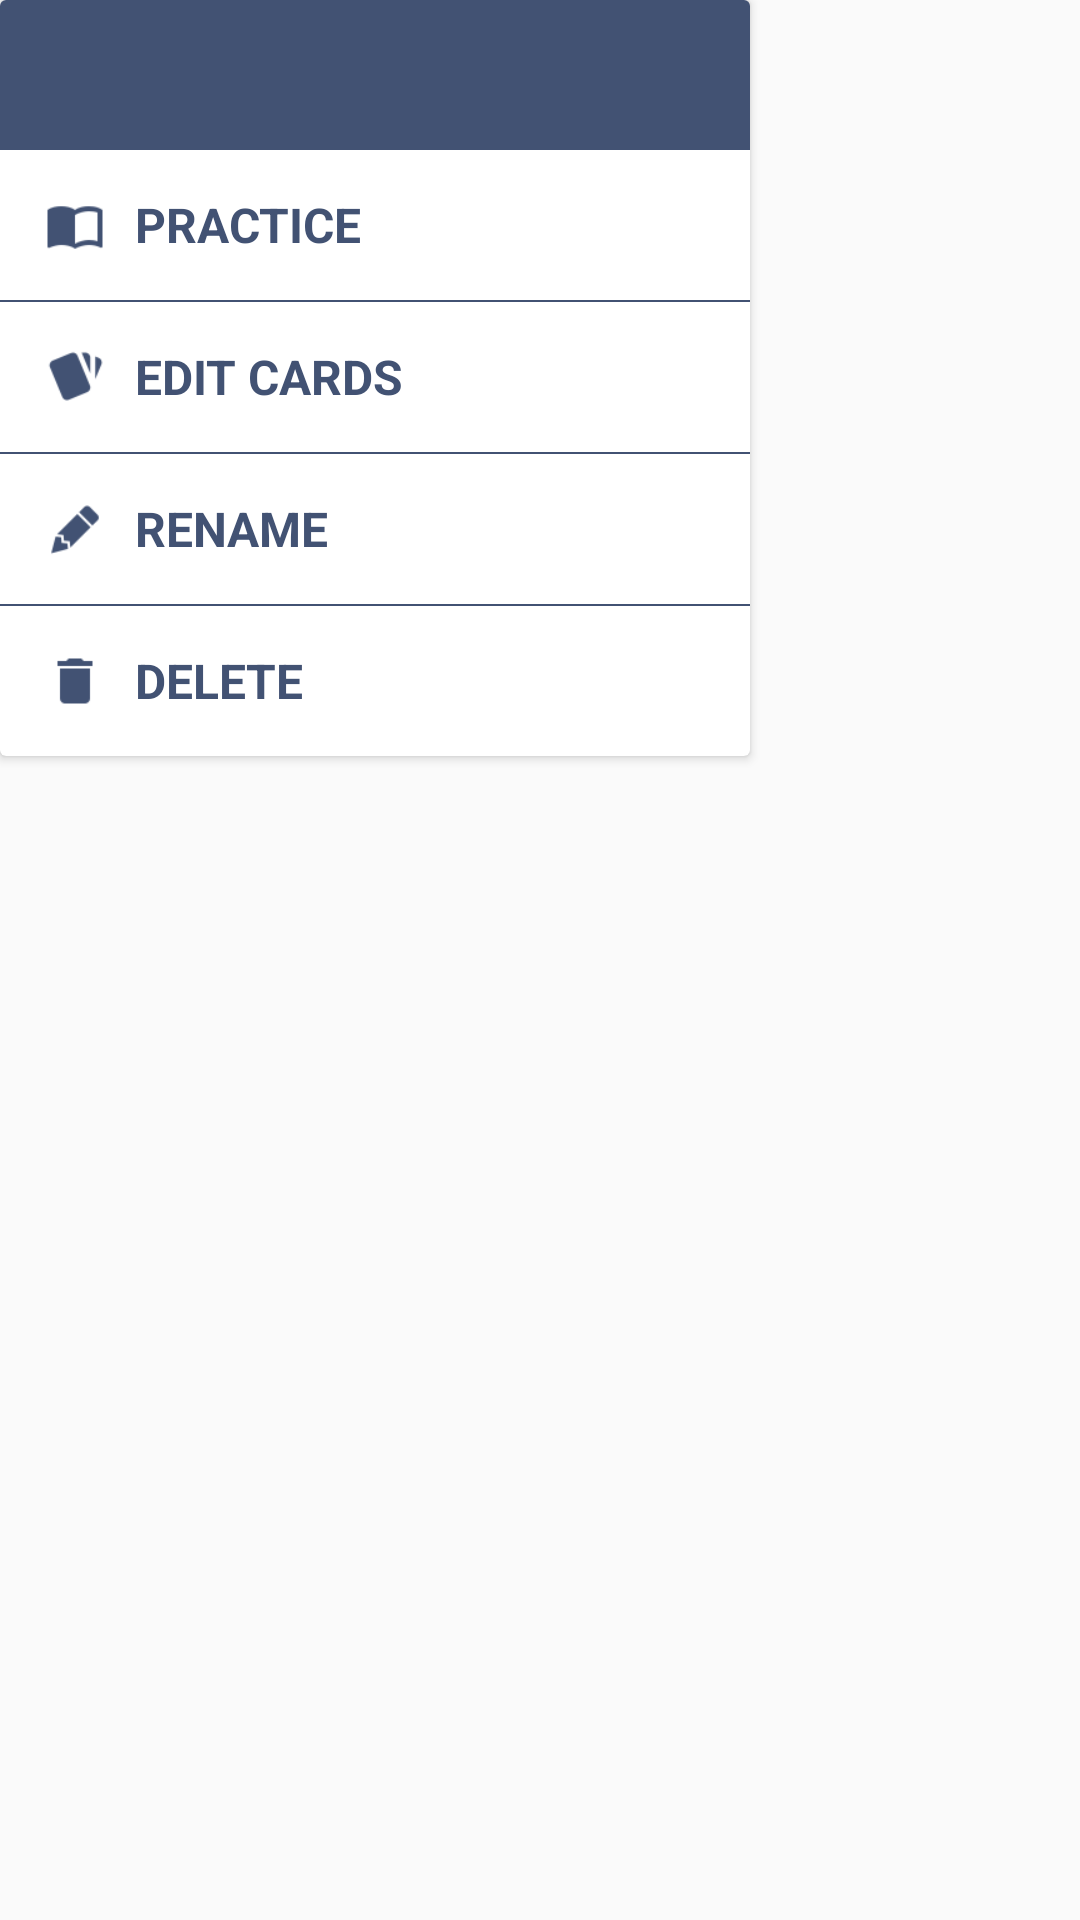

Locate icon controls on the screen. Image size 1080 × 1920, boxes as (x1, y1, x2, y2).
book: (47, 206, 103, 249)
pencil: (51, 505, 99, 554)
